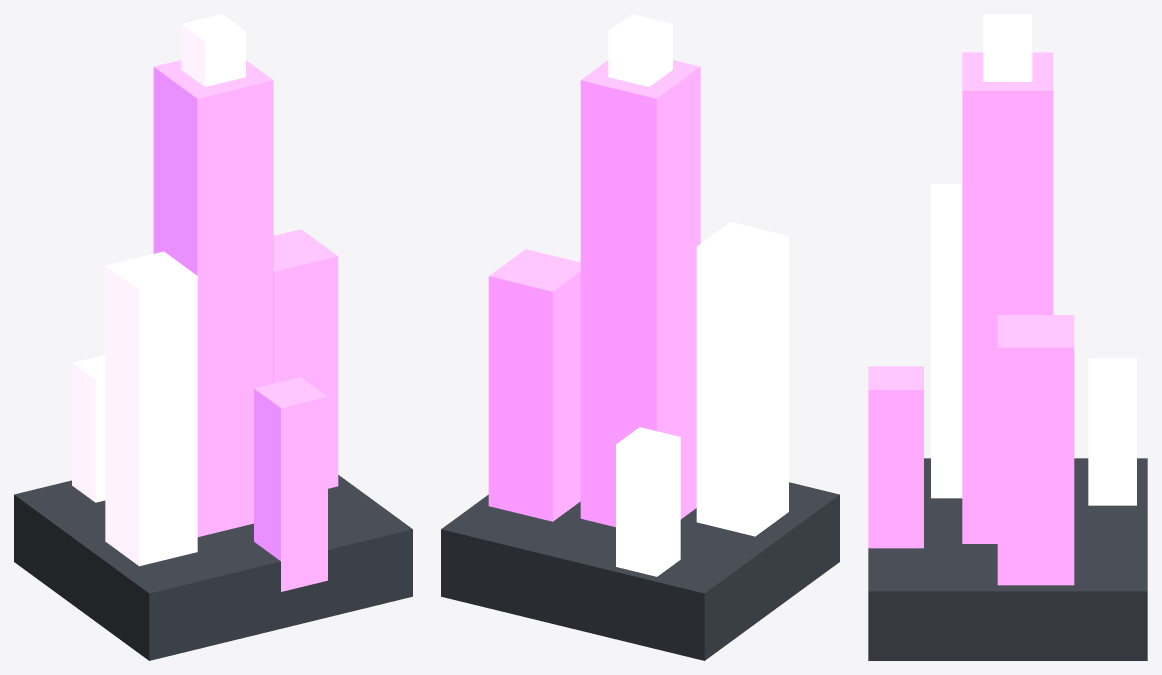
File: dba-crystal-purple.glb
3 views of the same model, side by side, from view 1: azimuth 30°, elevation 25°; view 2: azimuth 150°, elevation 25°; view 3: azimuth 270°, elevation 25° (orthographic). The views are drawn at different scales.
Parts seen in each view (by area): view 1: box-prop; view 2: box-prop; view 3: box-prop.
Boxes of the visible parts, x1=… form: box-prop: x1=14, y1=14, x2=412, y2=660; box-prop: x1=441, y1=14, x2=839, y2=660; box-prop: x1=868, y1=14, x2=1147, y2=660.
Size of the model in its own units: 0.855 by 1.71 by 0.76.
